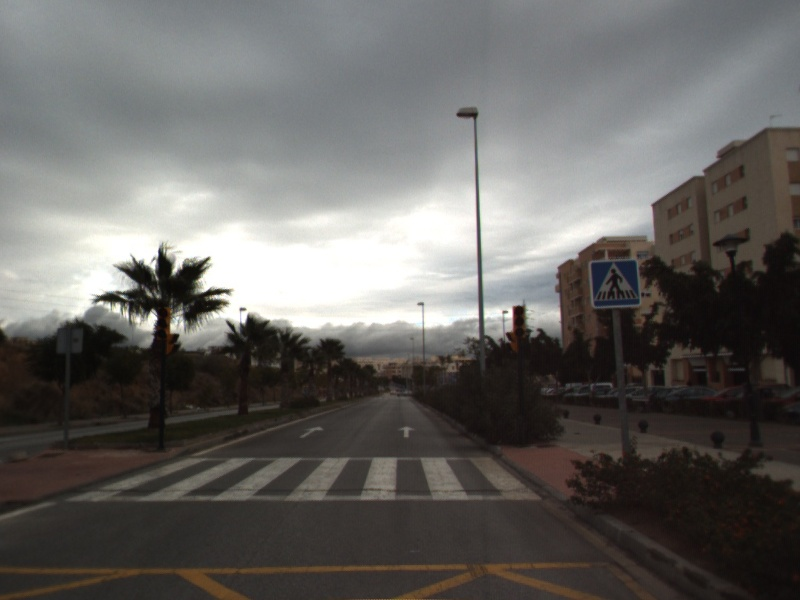STRAIGHT: (298, 424, 326, 440), (396, 423, 418, 439)
